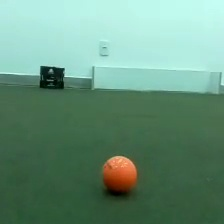ball: (99, 152, 139, 197)
goal: (89, 63, 223, 97)
robot: (37, 63, 66, 90)
